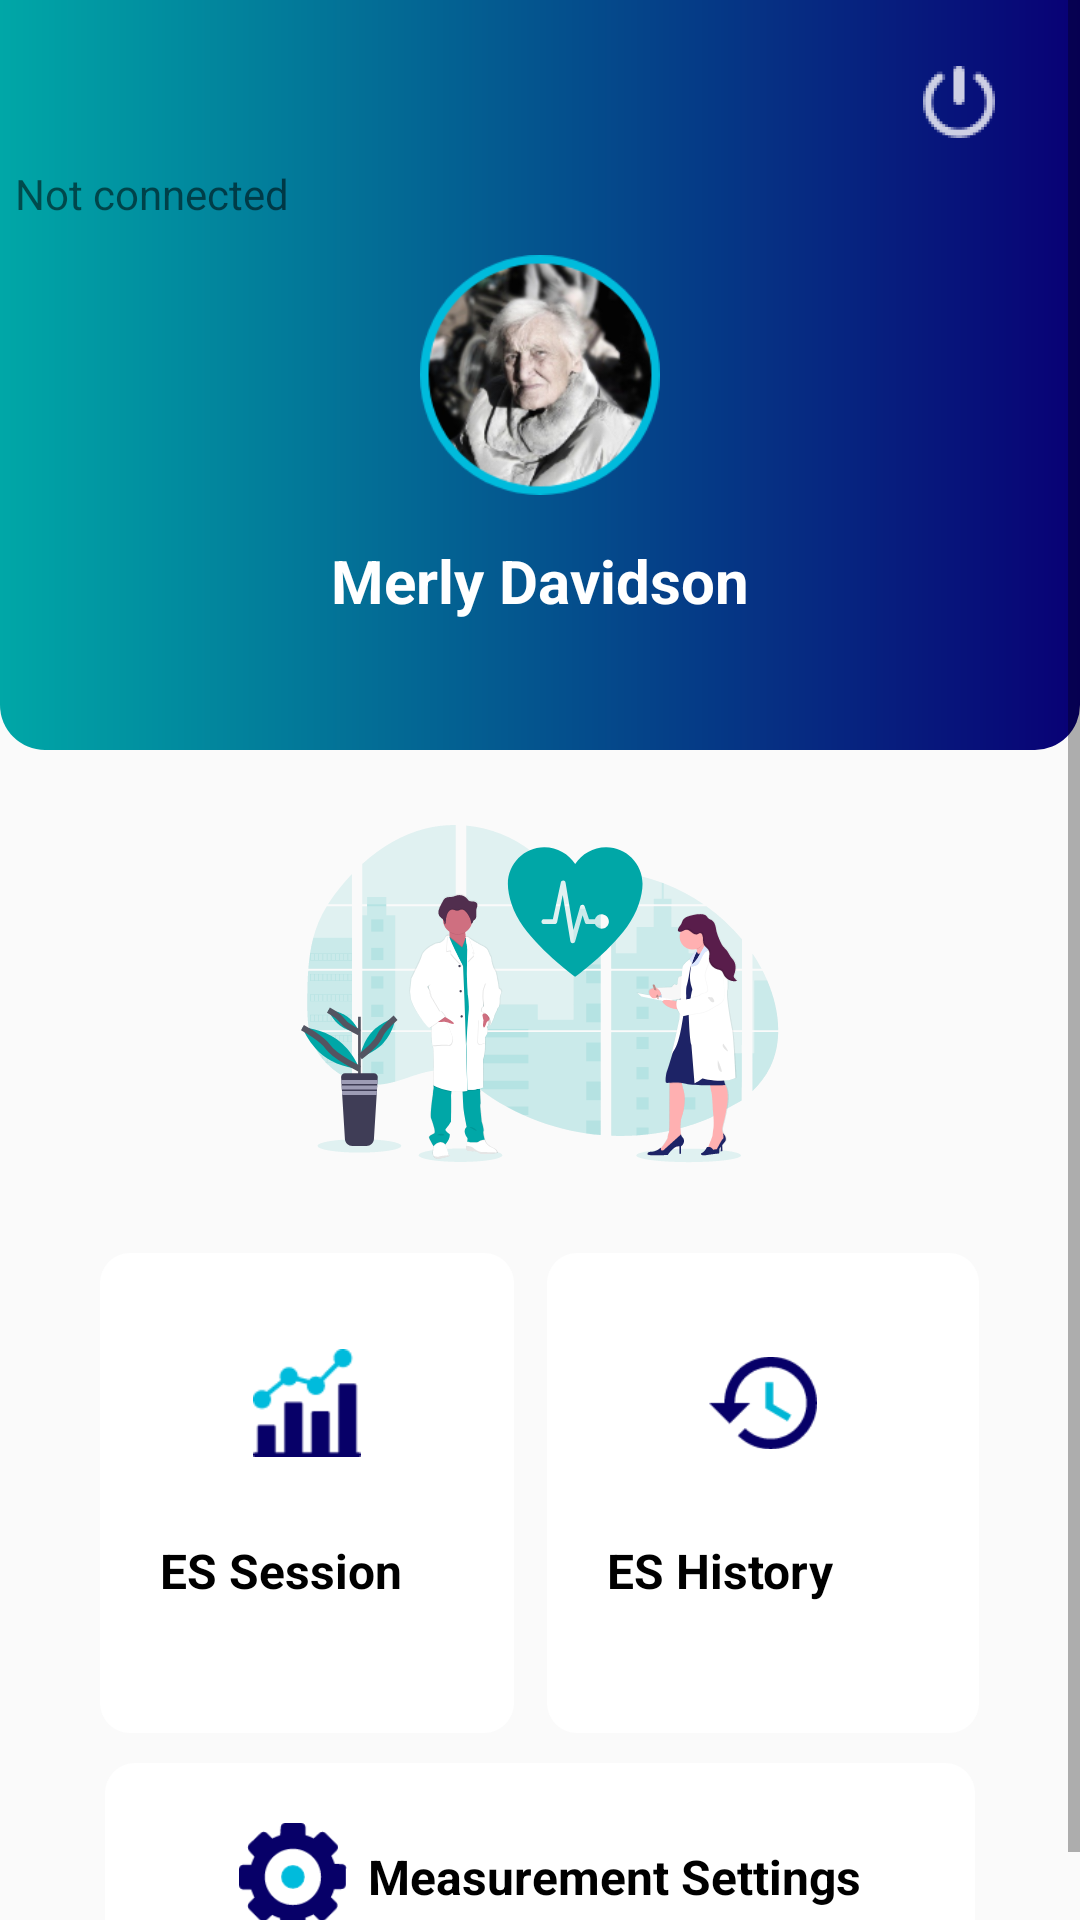

Where to tap for icons on this 1080 x 1920 app screen, as (x=x, y=y):
dependent: (x=540, y=375)
log out: (x=950, y=102)
